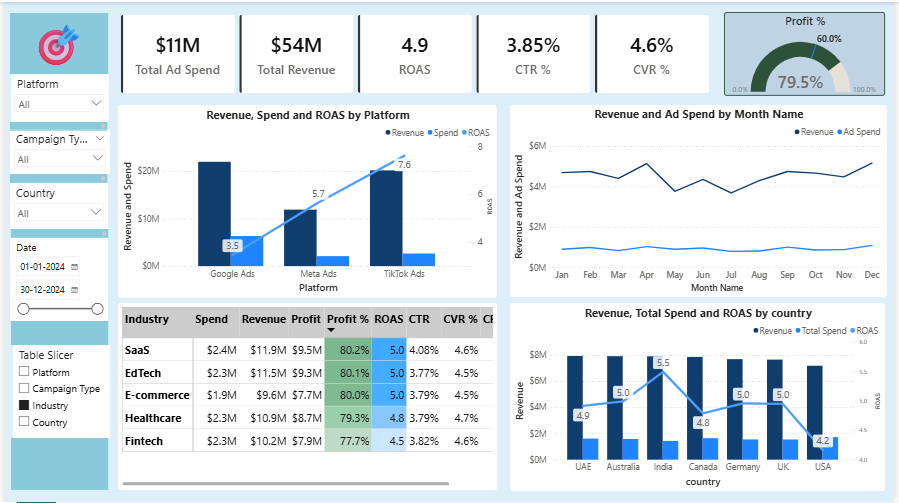

The page's visual inventory and layout, read from the dashboard file:
{"tool":"powerbi","page":{"name":"Main","canvas":[1920,1080],"ordinal":0},"visuals":[{"type":"cardVisual","fields":{"Data":["Dax Measures.Total Spend","Dax Measures.Total Revenue","Dax Measures.ROAS","Dax Measures.CTR","Dax Measures.Conversion Rate CVR %"]},"box":[244.1,21.6,1283,181.4],"z":0},{"type":"gauge","fields":{"Y":["Dax Measures.Profit %"]},"box":[1553,21.6,347.8,181.4],"z":1000},{"type":"slicer","fields":{"Values":["global_ads_performance_dataset.platform"]},"box":[13.2,155.9,210.7,103.2],"z":2000},{"type":"lineChart","fields":{"Y":["Dax Measures.Total Revenue","Dax Measures.Total Spend"],"Category":["Calender table.Month Name"]},"box":[1090.8,222.5,814.3,414.7],"z":3000},{"type":"pivotTable","fields":{"Rows":["global_ads_performance_dataset.industry"],"Values":["Dax Measures.Total Spend","Dax Measures.Total Revenue","Dax Measures.Profit","Dax Measures.Profit %","Dax Measures.ROAS","Dax Measures.CTR","Dax Measures.Conversion Rate CVR %","Dax Measures.CPC","Dax Measures.CPA"]},"box":[244.1,650.2,818.6,403.9],"z":4000},{"type":"slicer","fields":{"Values":["Major Slicer.Major Slicer"]},"box":[17.3,740.9,209.5,200.9],"z":5000},{"type":"lineClusteredColumnComboChart","fields":{"Category":["global_ads_performance_dataset.country"],"Y":["Dax Measures.Total Revenue","Dax Measures.Total Spend"],"Y2":["Dax Measures.ROAS"]},"box":[1090.8,650.2,810,406.1],"z":6000},{"type":"slicer","fields":{"Values":["global_ads_performance_dataset.country"]},"box":[10.8,391,211.7,99.4],"z":7000},{"type":"slicer","fields":{"Values":["global_ads_performance_dataset.campaign_type"]},"box":[10.8,274.3,216,97.2],"z":8000},{"type":"slicer","fields":{"Values":["Calender table.Date"]},"box":[10.8,509.8,209.5,179.3],"z":9000},{"type":"textbox","box":[10.8,23.8,211.7,131.8],"z":10000},{"type":"textbox","box":[13,941.8,209.5,112.3],"z":11000},{"type":"textbox","box":[13,689,209.5,51.8],"z":12000},{"type":"textbox","box":[13,490.3,209.5,19.4],"z":13000},{"type":"textbox","box":[10.8,371.5,209.5,19.4],"z":14000},{"type":"textbox","box":[10.8,259.2,209.5,19.4],"z":15000},{"type":"lineClusteredColumnComboChart","fields":{"Category":["global_ads_performance_dataset.Platform","global_ads_performance_dataset.Campaign Type"],"Y":["Dax Measures.Total Revenue","Dax Measures.Total Spend"],"Y2":["Dax Measures.ROAS"]},"box":[244,222.6,817.9,415.6],"z":16000}]}

Visuals, with their boxes in screenshot pixels (x1, y1, x2, y2), scaled from the page's 1920x1080 canvas onto the 899x503 screenshot:
cardVisual - Dax Measures.Total Spend x Dax Measures.Total Revenue: l=114, t=10, r=715, b=95
gauge - Dax Measures.Profit %: l=727, t=10, r=890, b=95
slicer - global_ads_performance_dataset.platform: l=6, t=73, r=105, b=121
lineChart - Dax Measures.Total Revenue x Dax Measures.Total Spend: l=511, t=104, r=892, b=297
pivotTable - global_ads_performance_dataset.industry x Dax Measures.Total Spend: l=114, t=303, r=498, b=491
slicer - Major Slicer.Major Slicer: l=8, t=345, r=106, b=439
lineClusteredColumnComboChart - global_ads_performance_dataset.country x Dax Measures.Total Revenue: l=511, t=303, r=890, b=492
slicer - global_ads_performance_dataset.country: l=5, t=182, r=104, b=228
slicer - global_ads_performance_dataset.campaign_type: l=5, t=128, r=106, b=173
slicer - Calender table.Date: l=5, t=237, r=103, b=321
textbox: l=5, t=11, r=104, b=72
textbox: l=6, t=439, r=104, b=491
textbox: l=6, t=321, r=104, b=345
textbox: l=6, t=228, r=104, b=237
textbox: l=5, t=173, r=103, b=182
textbox: l=5, t=121, r=103, b=130
lineClusteredColumnComboChart - global_ads_performance_dataset.Platform x global_ads_performance_dataset.Campaign Type: l=114, t=104, r=497, b=297
